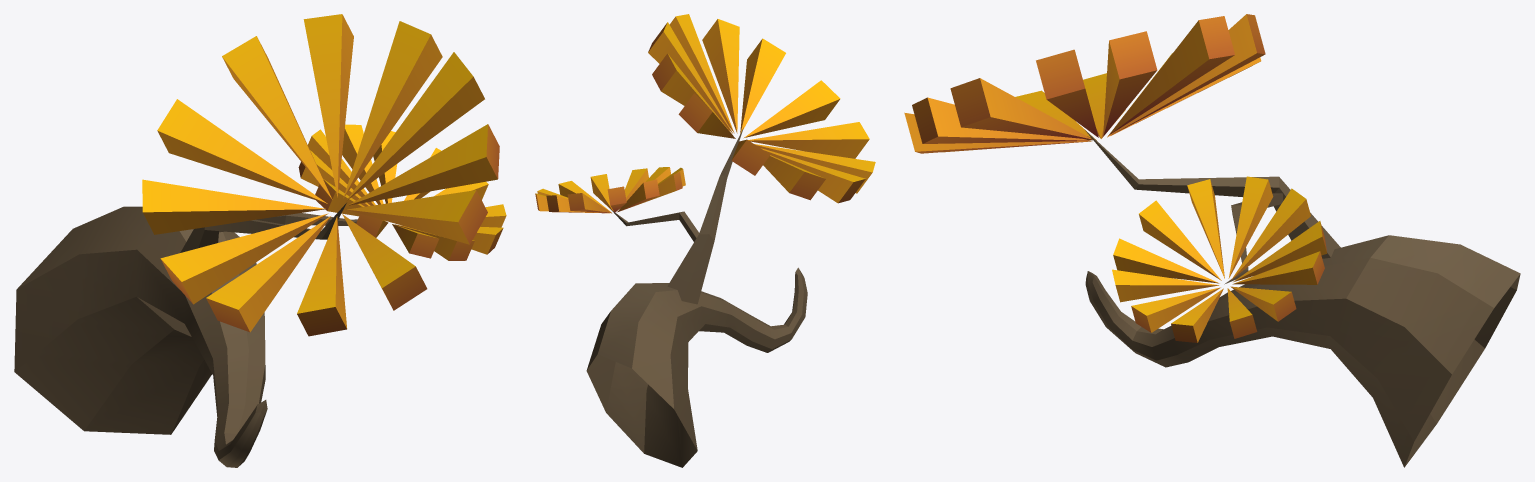
Rendered from branch_yellow_3.glb.
3 renders of one model, left to right at view 1: azimuth 30°, elevation 25°; view 2: azimuth 150°, elevation 25°; view 3: azimuth 270°, elevation 25°, orthographic. The views are drawn at different scales.
Parts seen in each view (by area): view 1: branch_yellow_3; view 2: branch_yellow_3; view 3: branch_yellow_3.
Part boxes in pixels (box(x1,y1,x2,y2)): branch_yellow_3: box(14, 14, 506, 467); branch_yellow_3: box(535, 14, 875, 467); branch_yellow_3: box(904, 14, 1520, 467).
Bounding box in the file's own units: 1.45 × 1.74 × 2.
1 material, 1 textured.
